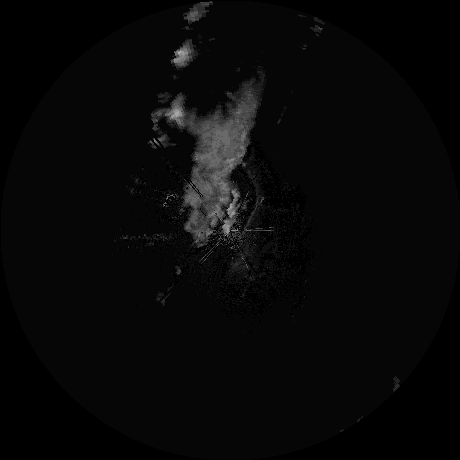frontgust: (238, 189, 262, 239)
